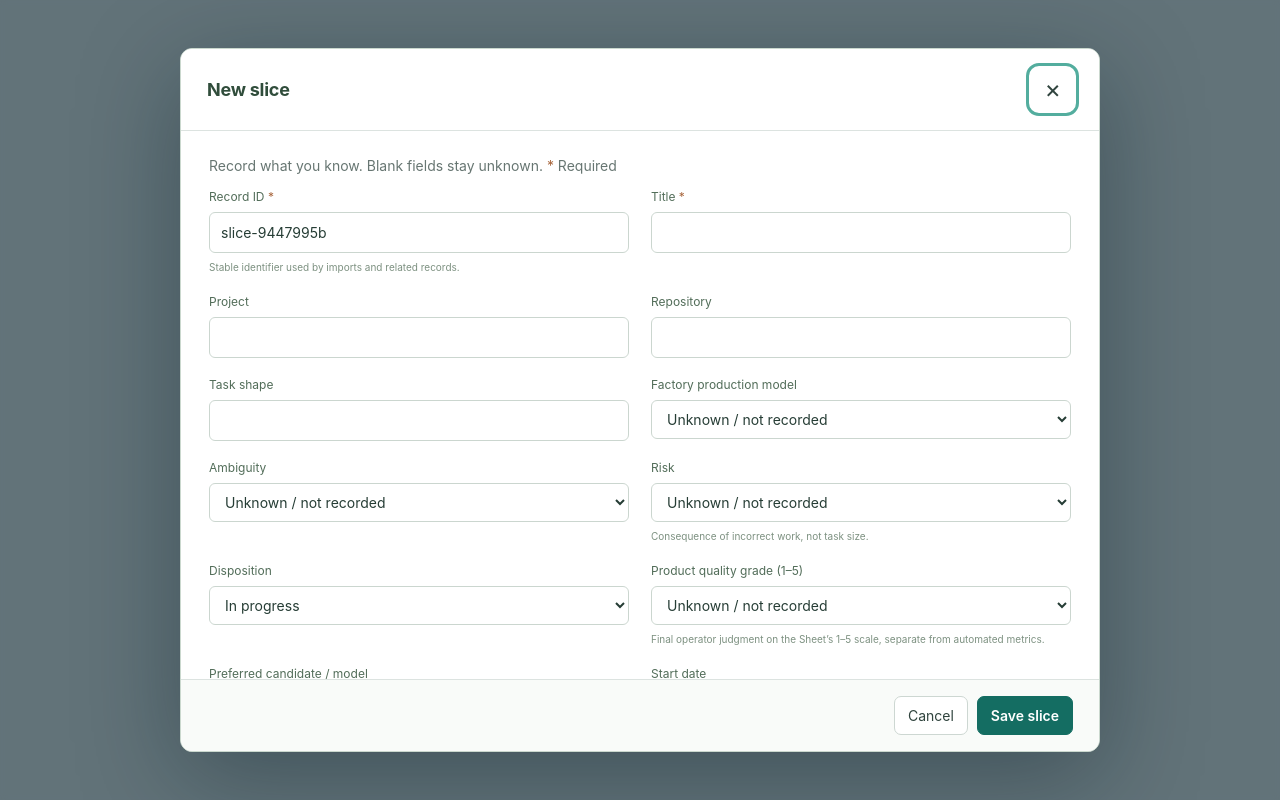
Test: record editor behavior › preserves a failed save draft and reports the storage error
Type "Keep this draft" into the field labelled "Title *" at (861, 232), box [651,212,1071,253]
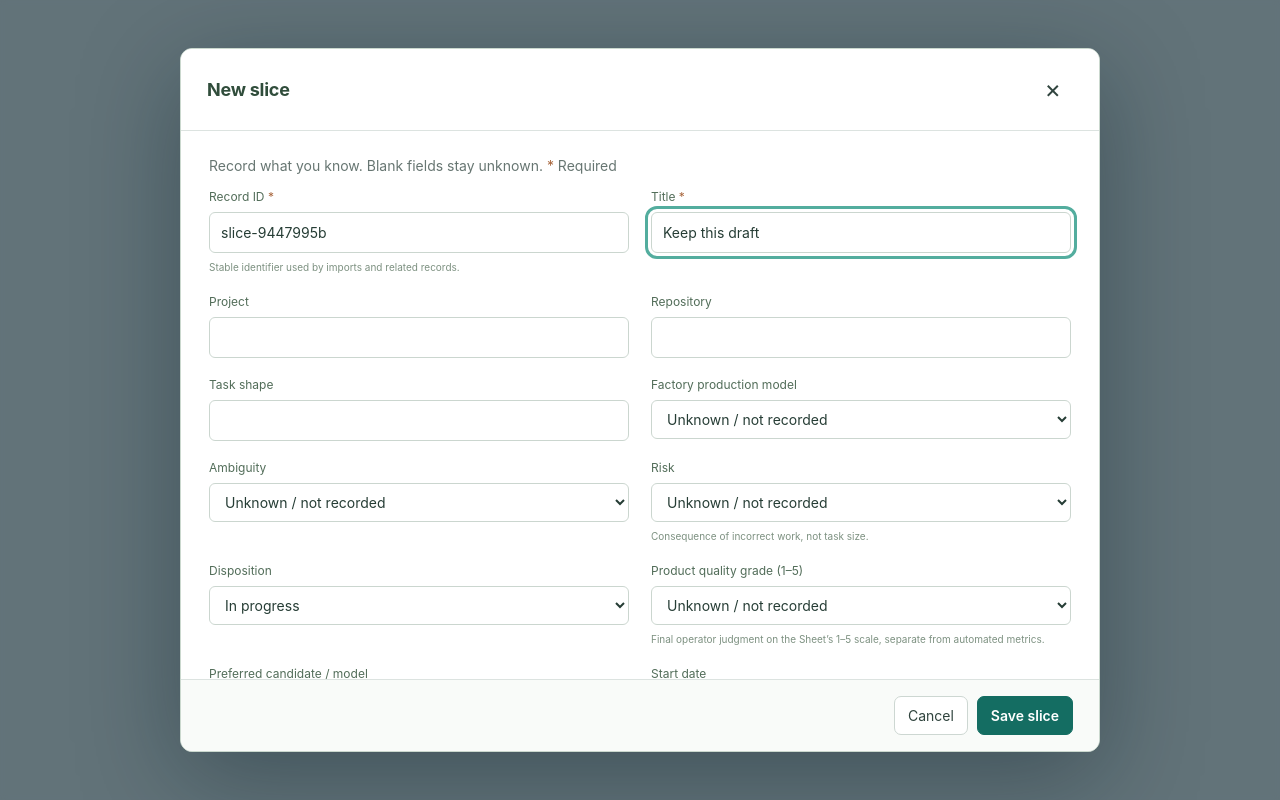
Click the button "Save slice" at (1025, 716), box [977,696,1073,735]
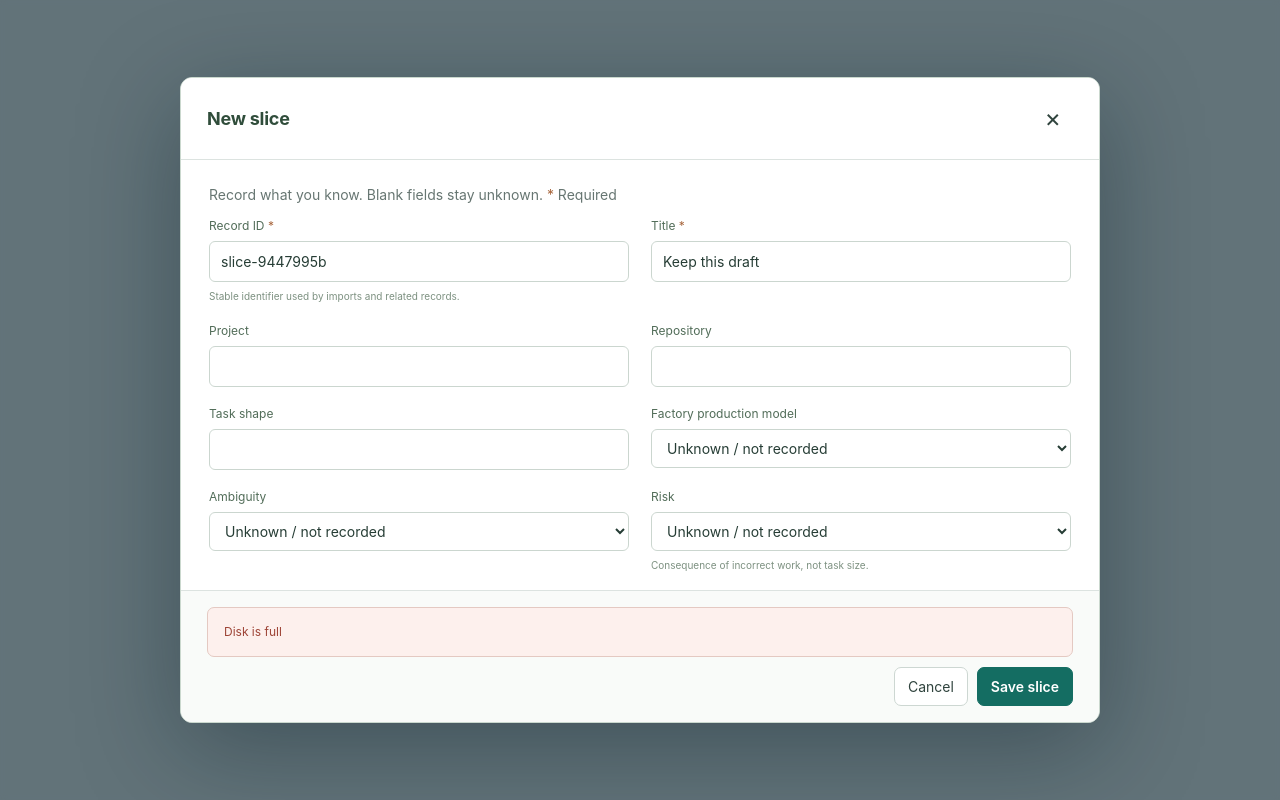
Expected: the message reads "Disk is full", [224,624,282,639]
